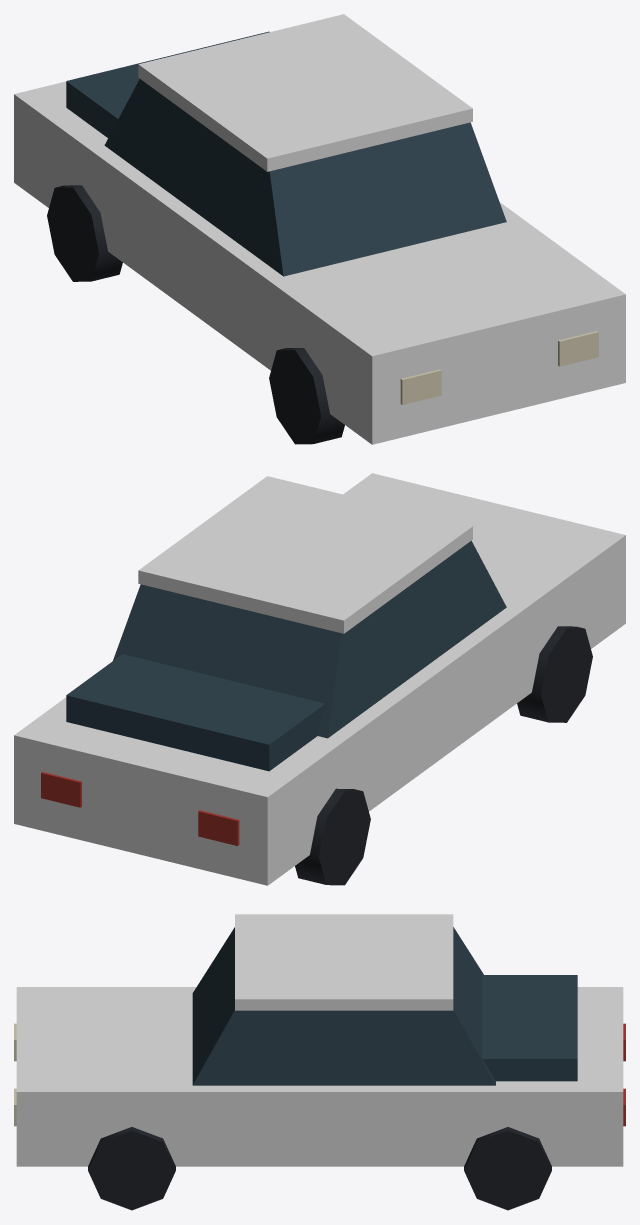
File: veh_hearse_1.30d350f45922.glb
3 views of the same model, one above another, from view 1: azimuth 30°, elevation 25°; view 2: azimuth 150°, elevation 25°; view 3: azimuth 270°, elevation 25° (orthographic). The views are drawn at different scales.
Visible parts, largest first — view 1: LOD0; view 2: LOD0; view 3: LOD0.
Boxes of the visible parts, x1,y1,x2,y2 form: LOD0: (14,14,625,444); LOD0: (14,473,625,885); LOD0: (14,914,625,1210).
Size of what is drawn, in the model's own units: 1.93 by 1.58 by 4.44.
